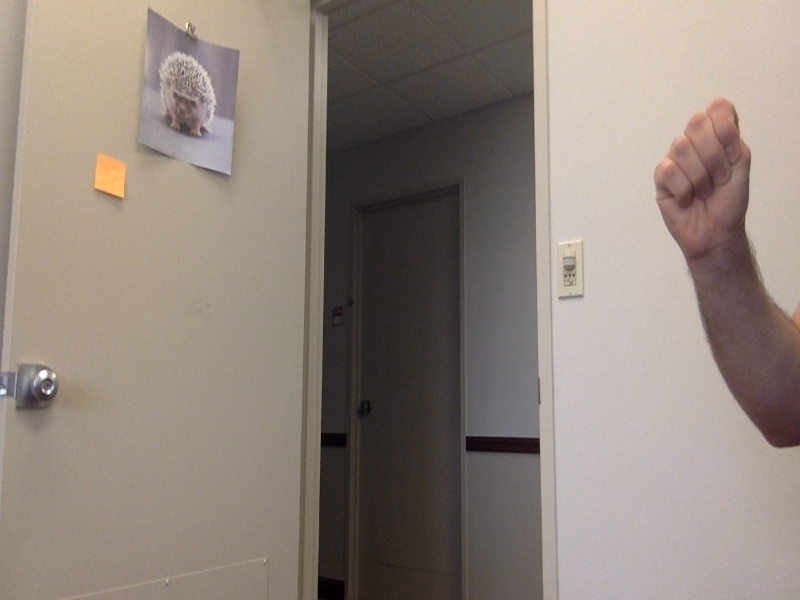0-hand: (647, 96, 762, 258)
